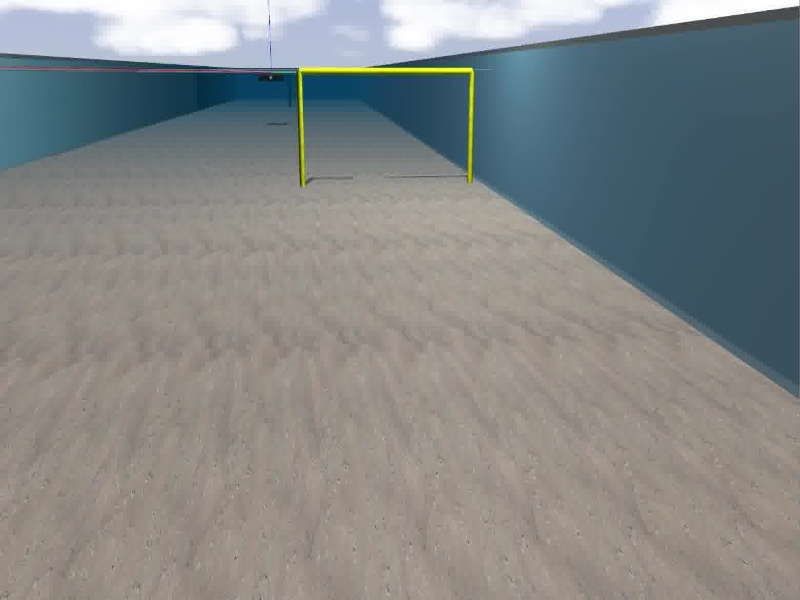gate: (297, 66, 475, 186)
